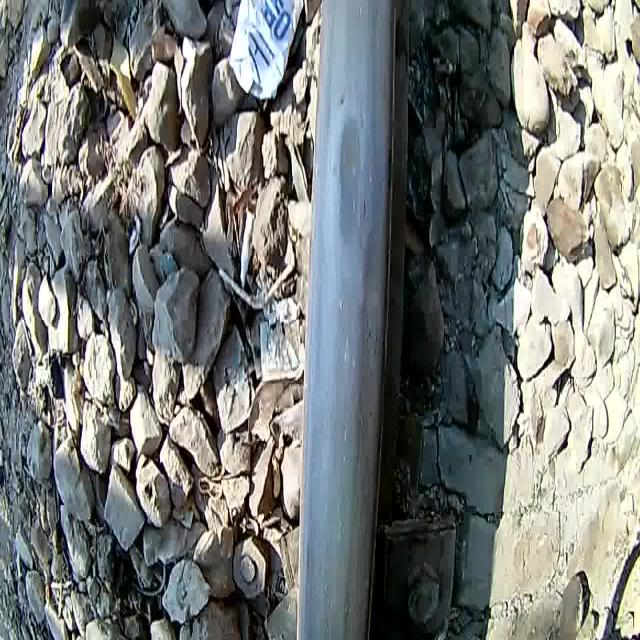Squats: (299, 81, 404, 271)
